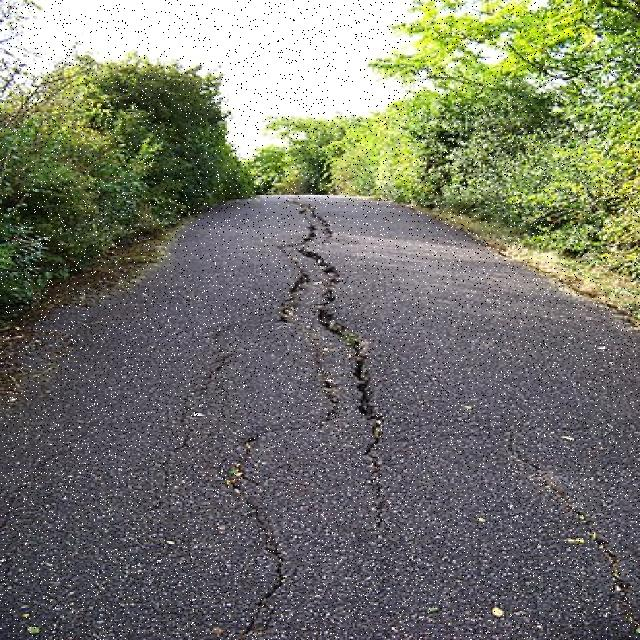Crack: (507, 434, 627, 618), (300, 244, 383, 461), (218, 459, 286, 637), (274, 217, 316, 324), (312, 347, 339, 430), (291, 201, 335, 244)
